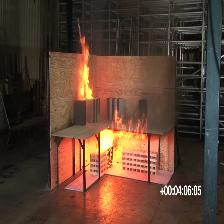fire: (101, 110, 146, 164), (78, 28, 93, 99)
